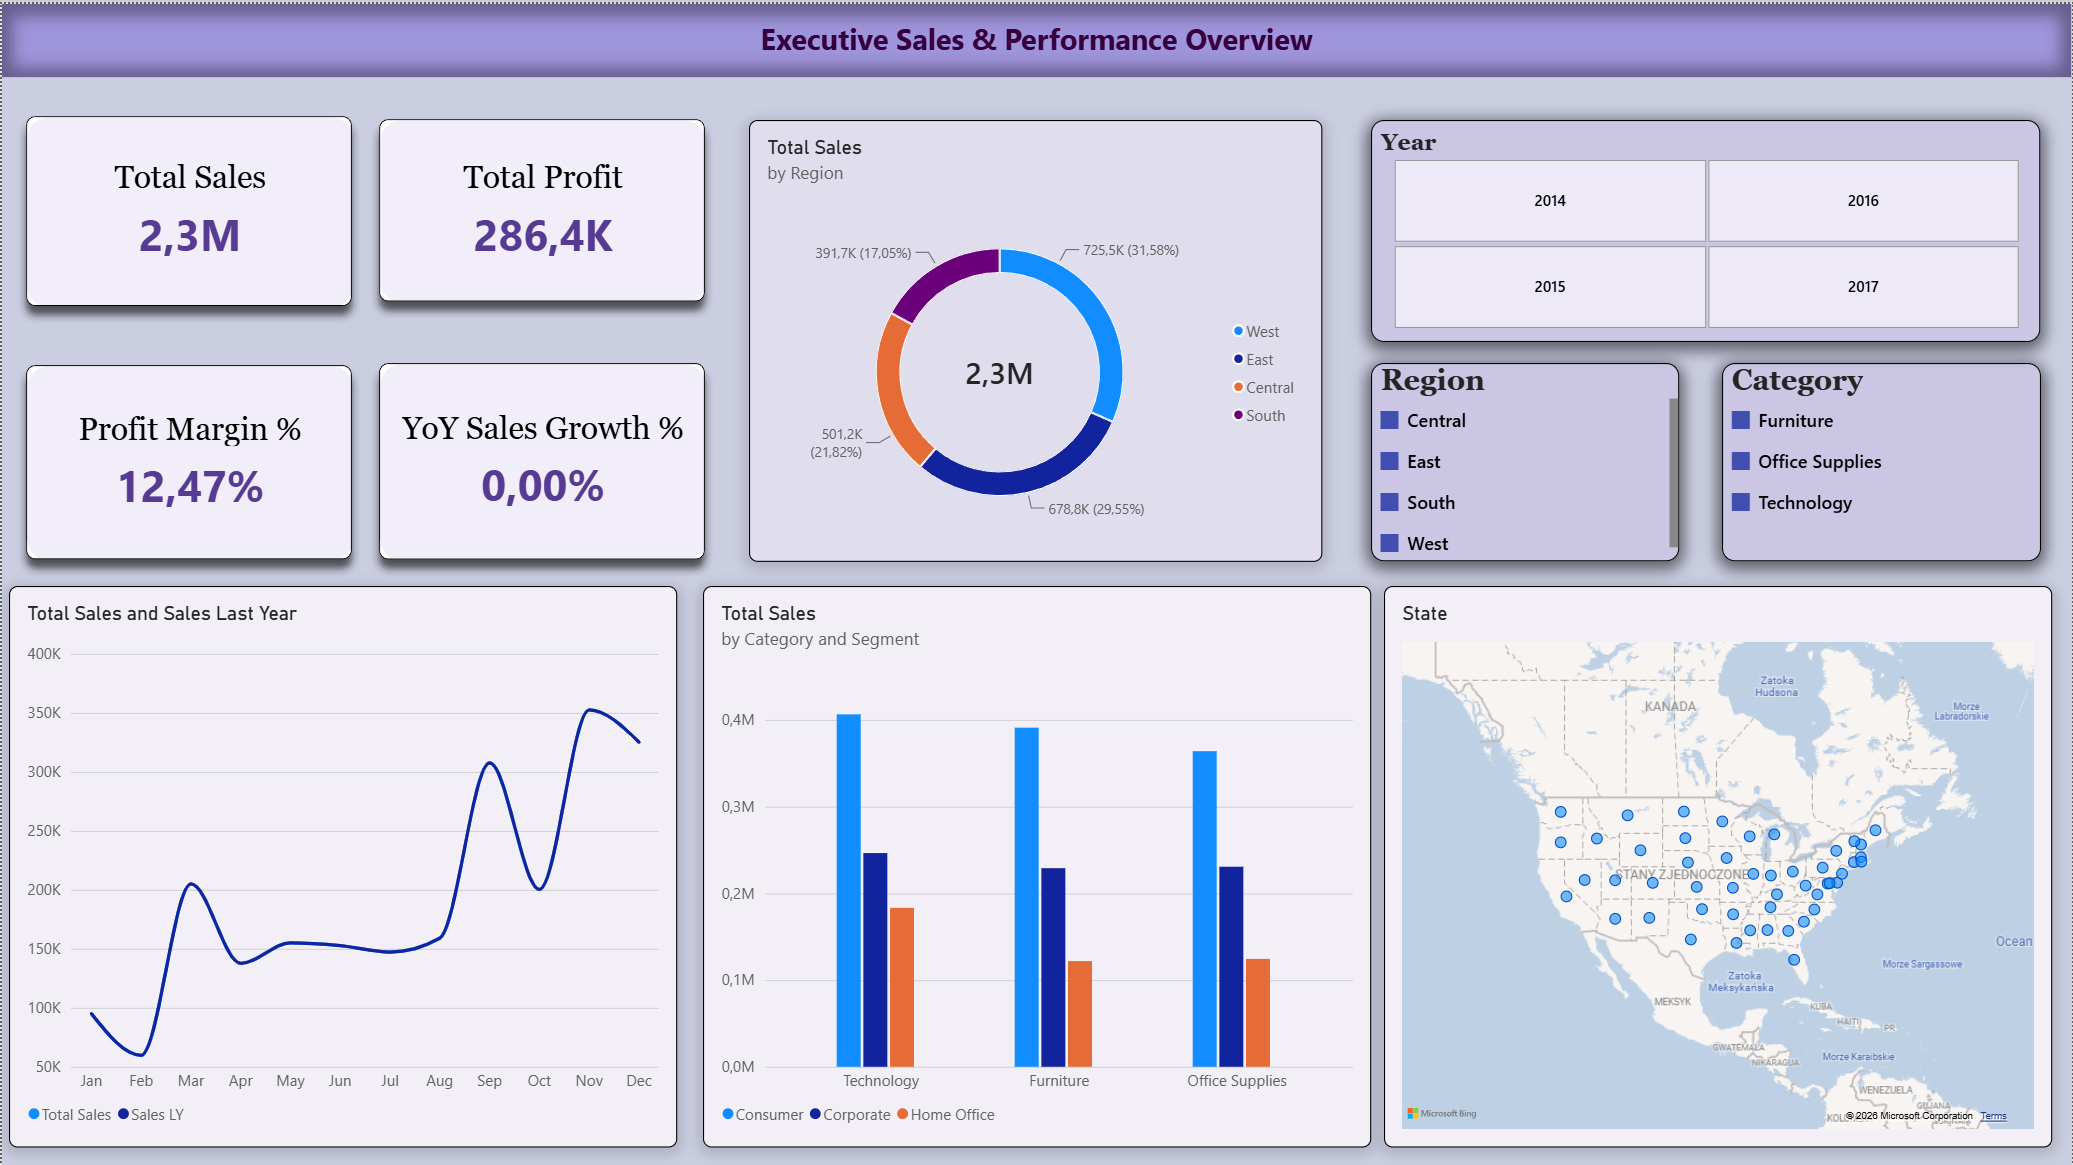

The page's visual inventory and layout, read from the dashboard file:
{"tool":"powerbi","page":{"name":"Dashboard Project","canvas":[1920,1080],"ordinal":0},"visuals":[{"type":"textbox","box":[0,0,1920,67.8],"z":0},{"type":"cardVisual","fields":{"Data":["_Measures.Total Sales"]},"box":[6.7,87.8,334.4,208.9],"z":1000},{"type":"cardVisual","fields":{"Data":["_Measures.Profit Margin %"]},"box":[6.7,318.9,334.4,212.2],"z":2000},{"type":"cardVisual","fields":{"Data":["_Measures.Total Profil"]},"box":[334.4,91.1,334.4,201.1],"z":3000},{"type":"lineChart","title":"Total Sales and Sales Last Year","fields":{"Category":["Calendar.Month"],"Y":["_Measures.Total Sales","_Measures.Sales LY"]},"box":[6.7,540,620,521.1],"z":4000},{"type":"slicer","fields":{"Values":["Superstore.Category"]},"box":[1595.6,333.3,295.6,184.4],"z":5000},{"type":"clusteredColumnChart","fields":{"Category":["Superstore.Category"],"Series":["Superstore.Segment"],"Y":["_Measures.Total Sales"]},"box":[650,540,620,521.1],"z":6000},{"type":"map","fields":{"Category":["Superstore.State"]},"box":[1282.2,540,620,521.1],"z":7000},{"type":"slicer","fields":{"Values":["Calendar.Year"]},"box":[1270,107.8,621.1,205.6],"z":8000},{"type":"slicer","fields":{"Values":["Superstore.Region"]},"box":[1270,333.3,285.6,184.4],"z":9000},{"type":"cardVisual","fields":{"Data":["_Measures.YoY Sales Growth %"]},"box":[334.4,317.8,334.4,214.4],"z":10000},{"type":"donutChart","fields":{"Category":["Superstore.Region"],"Y":["_Measures.Total Sales"]},"box":[693.3,107.8,532.2,410],"z":11000}]}

Visuals, with their boxes in screenshot pixels (x1, y1, x2, y2), scaled from the page's 1920x1080 canvas onto the 2073x1165 screenshot:
textbox: Rect(0, 0, 2072, 73)
cardVisual - _Measures.Total Sales: Rect(7, 95, 368, 320)
cardVisual - _Measures.Profit Margin %: Rect(7, 344, 368, 573)
cardVisual - _Measures.Total Profil: Rect(361, 98, 722, 315)
"Total Sales and Sales Last Year" lineChart: Rect(7, 582, 677, 1145)
slicer - Superstore.Category: Rect(1723, 360, 2042, 558)
clusteredColumnChart - Superstore.Category x Superstore.Segment: Rect(702, 582, 1371, 1145)
map - Superstore.State: Rect(1384, 582, 2054, 1145)
slicer - Calendar.Year: Rect(1371, 116, 2042, 338)
slicer - Superstore.Region: Rect(1371, 360, 1680, 558)
cardVisual - _Measures.YoY Sales Growth %: Rect(361, 343, 722, 574)
donutChart - Superstore.Region x _Measures.Total Sales: Rect(749, 116, 1323, 559)
